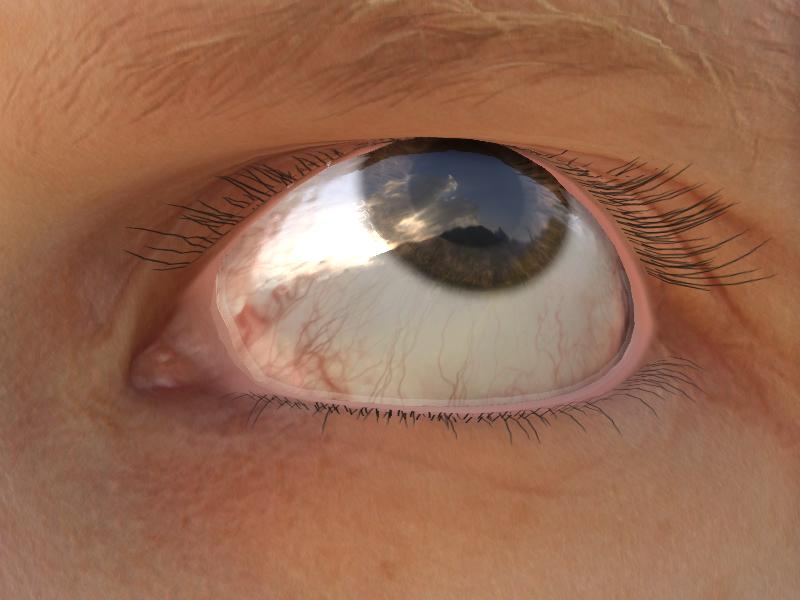eye: (356, 137, 570, 295)
